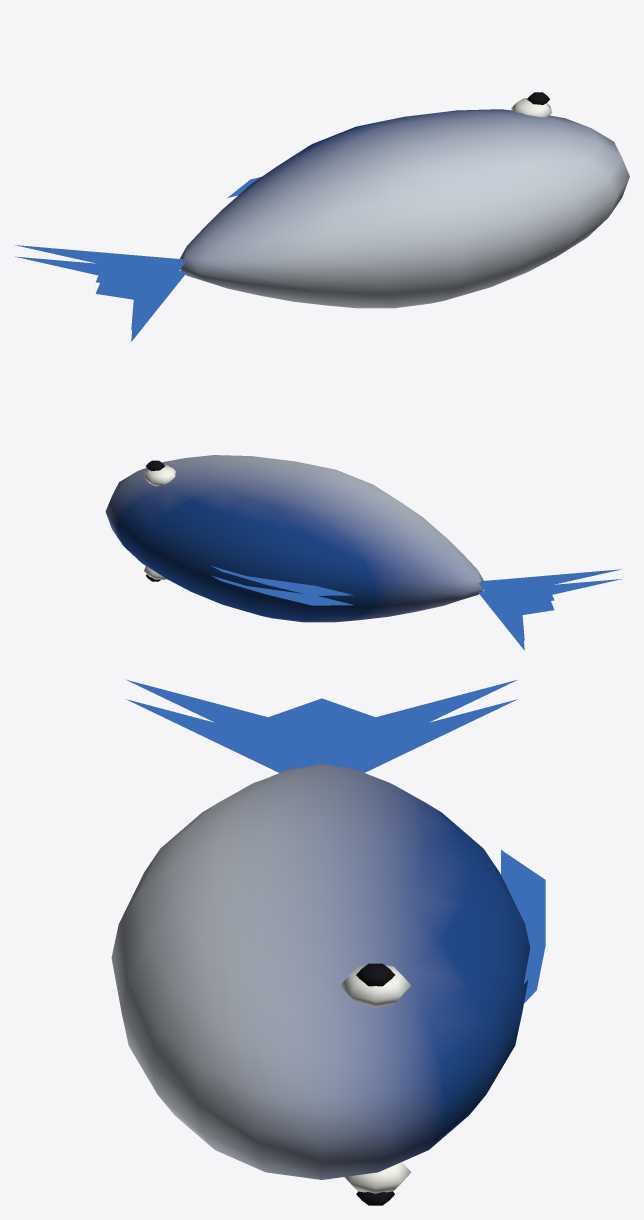
The model's file is fish.glb.
The picture shows the model from 3 angles, top to bottom: view 1: azimuth 30°, elevation 25°; view 2: azimuth 150°, elevation 25°; view 3: azimuth 270°, elevation 25°; orthographic projection. The views are drawn at different scales.
Visible parts, largest first — view 1: Fish; view 2: Fish; view 3: Fish.
Part boxes in pixels (x1,y1,x2,y2): Fish: (15,92,629,341); Fish: (105,455,621,650); Fish: (111,679,545,1205).
Bounding box in the file's own units: 1.3 × 0.35 × 0.5001.
